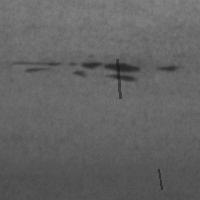inclusion: (9, 56, 147, 83), (151, 61, 183, 75), (115, 57, 122, 100), (156, 167, 163, 191)
